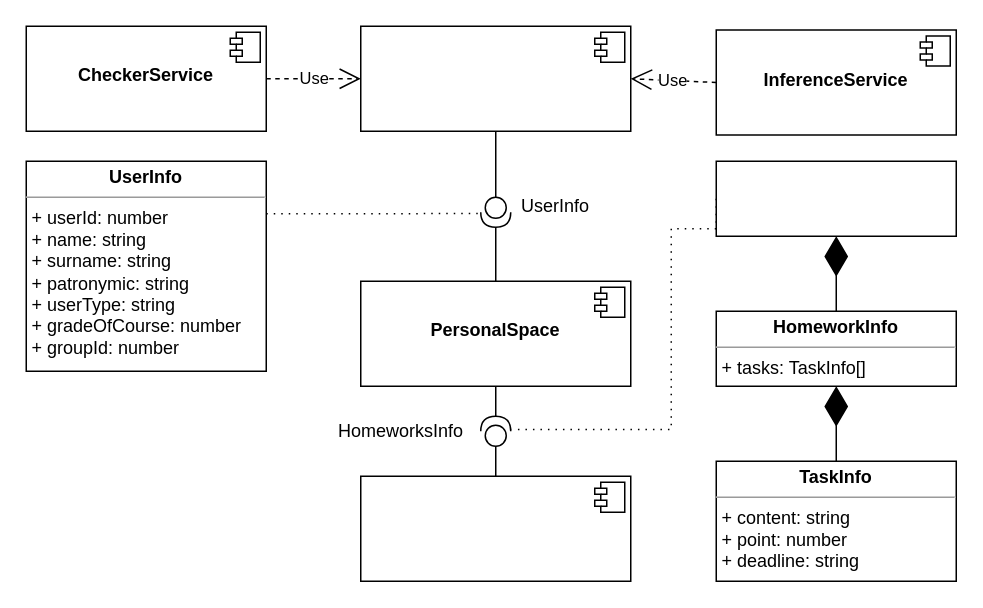
Some shapes in this 983 by 608 pixel diagram are drawn without their labels. Here are the shapes that lost their labels. From the top down, the centre of each, then its label:
(x=495, y=78): AuthService
(x=835, y=198): HomeworksInfo + hws: HomeworkInfo[]
(x=495, y=528): HomeworkService
